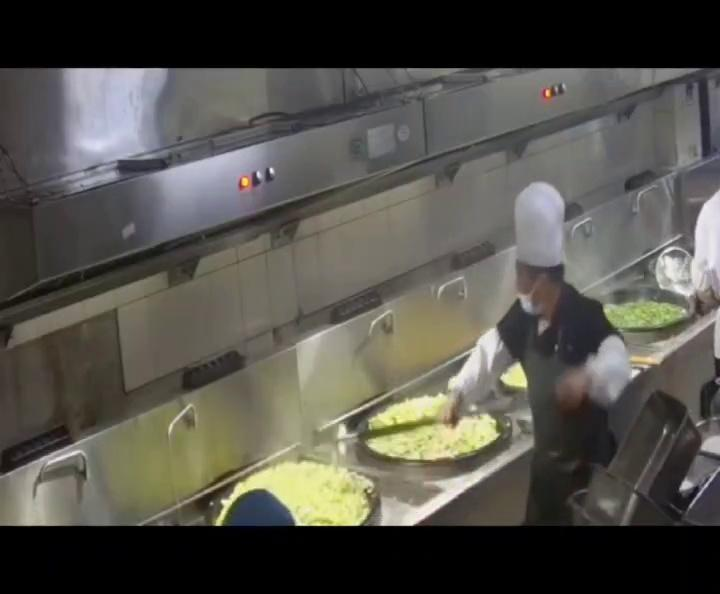mask: (516, 272, 548, 320)
